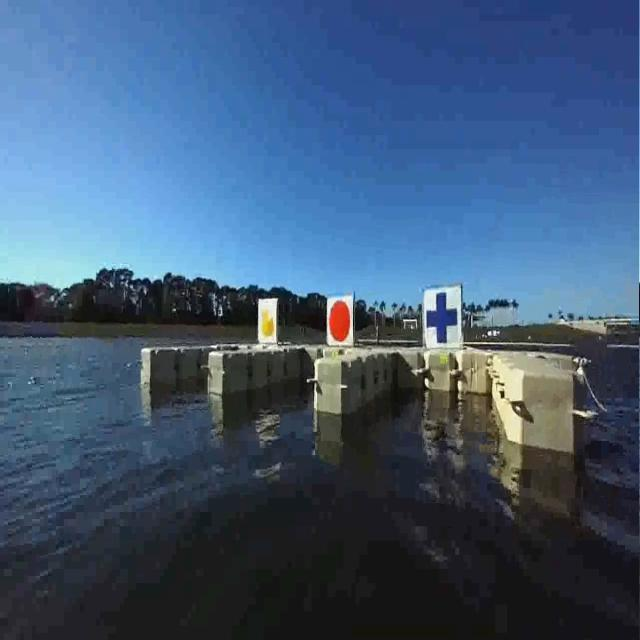blue-cross: (419, 283, 468, 353)
red-dot: (324, 291, 354, 352)
yellow-duck: (256, 290, 278, 348)
